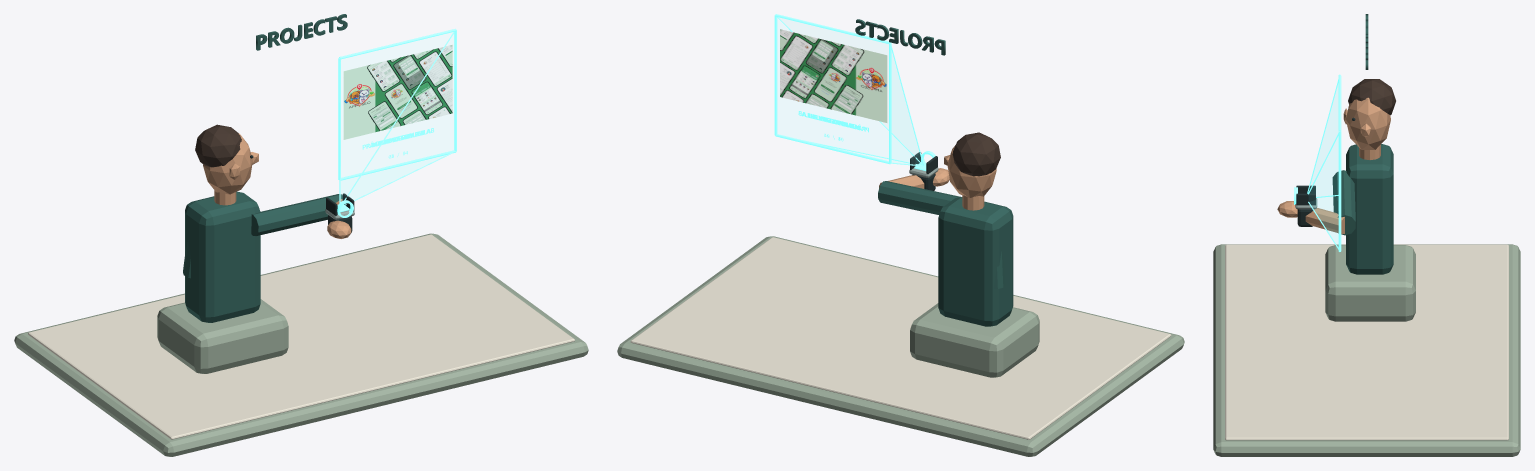
File: projects.glb
3 views of the same model, side by side, from view 1: azimuth 30°, elevation 25°; view 2: azimuth 150°, elevation 25°; view 3: azimuth 270°, elevation 25° (orthographic).
Parts seen in each view (by area): view 1: Isla · pavimento.006, Isla · plataforma.006, Busto · torso.001, PROJECT_COVER_0.001, Busto · pedestal.001, Brazo derecho · bíceps.001, Busto · pelo.001, Busto · cabeza.001, Holograma · cono piramidal.001, Proyectos · título.001; view 2: Isla · pavimento.006, Isla · plataforma.006, Busto · torso.001, PROJECT_COVER_0.001, Busto · pedestal.001, Busto · pelo.001, Brazo derecho · bíceps.001, Holograma · cono piramidal.001, Busto · cabeza.001, Proyectos · título.001; view 3: Isla · pavimento.006, Isla · plataforma.006, Busto · pedestal.001, Busto · torso.001, Holograma · cono piramidal.001, Busto · cabeza.001, Busto · pelo.001, Brazo derecho · bíceps.001, Brazo derecho · antebrazo.001, Holograma · marco.005.
Boxes of the visible parts, left/top/right/bottom form: Isla · pavimento.006: left=28, top=234, right=574, bottom=439; Isla · plataforma.006: left=14, top=233, right=588, bottom=456; Busto · torso.001: left=185, top=191, right=260, bottom=322; PROJECT_COVER_0.001: left=343, top=45, right=452, bottom=139; Busto · pedestal.001: left=157, top=299, right=288, bottom=373; Brazo derecho · bíceps.001: left=251, top=194, right=342, bottom=235; Busto · pelo.001: left=195, top=124, right=241, bottom=167; Busto · cabeza.001: left=203, top=133, right=252, bottom=194; Holograma · cono piramidal.001: left=341, top=155, right=444, bottom=200; Proyectos · título.001: left=256, top=14, right=347, bottom=50; Isla · pavimento.006: left=630, top=237, right=1171, bottom=439; Isla · plataforma.006: left=617, top=236, right=1184, bottom=456; Busto · torso.001: left=938, top=197, right=1013, bottom=326; PROJECT_COVER_0.001: left=780, top=29, right=887, bottom=122; Busto · pedestal.001: left=910, top=303, right=1039, bottom=377; Busto · pelo.001: left=952, top=132, right=1000, bottom=176; Brazo derecho · bíceps.001: left=878, top=181, right=960, bottom=214; Holograma · cono piramidal.001: left=892, top=54, right=921, bottom=163; Busto · cabeza.001: left=947, top=145, right=996, bottom=197; Proyectos · título.001: left=855, top=19, right=945, bottom=55; Isla · pavimento.006: left=1225, top=244, right=1508, bottom=440; Isla · plataforma.006: left=1213, top=244, right=1520, bottom=456; Busto · pedestal.001: left=1325, top=245, right=1415, bottom=321; Busto · torso.001: left=1346, top=144, right=1393, bottom=274; Holograma · cono piramidal.001: left=1310, top=88, right=1337, bottom=245; Busto · cabeza.001: left=1345, top=97, right=1390, bottom=149; Busto · pelo.001: left=1348, top=79, right=1395, bottom=115; Brazo derecho · bíceps.001: left=1332, top=170, right=1355, bottom=235; Brazo derecho · antebrazo.001: left=1305, top=207, right=1344, bottom=234; Holograma · marco.005: left=1338, top=131, right=1341, bottom=251.
Bounding box in the file's own units: 6.6 × 4.86 × 4.2.
13 materials, 4 textured.
